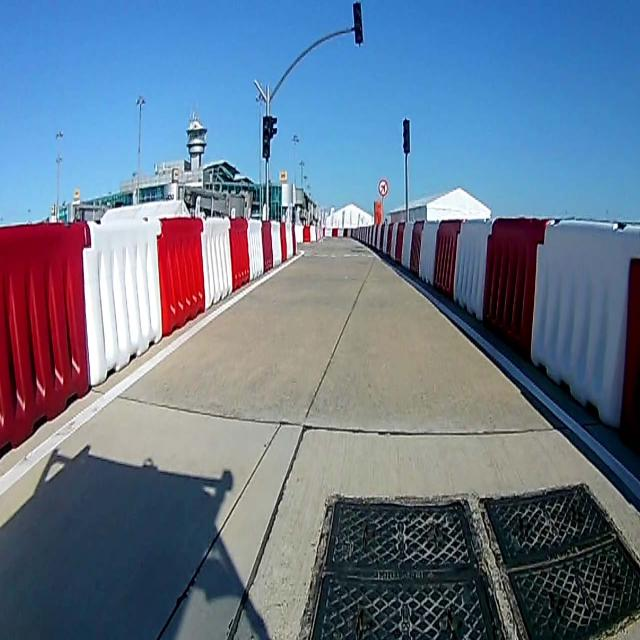soladonulmez: (378, 176, 388, 197)
